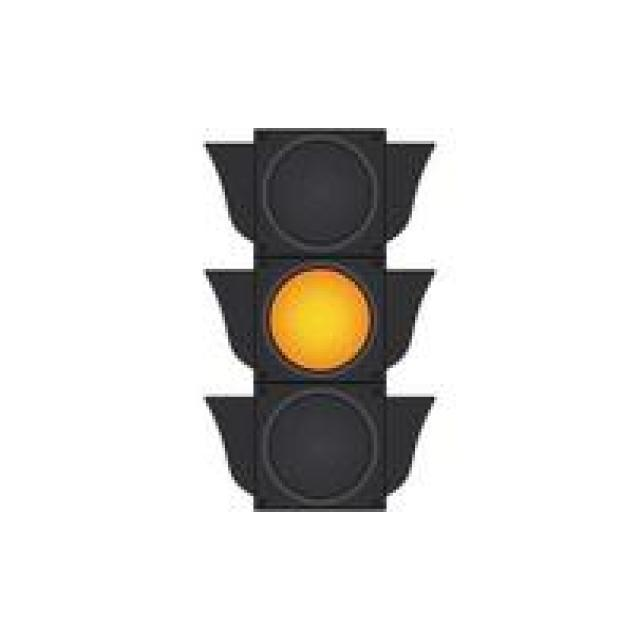yellow_light: (205, 127, 430, 508)
